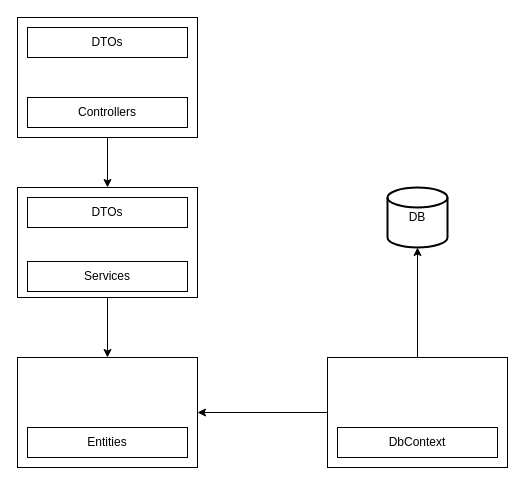
The diagram is 525 pixels wide and 485 high, and some of its shapes have lost their labels. Each missing label, with the box of its shape:
SleekFlow.Web.Application: (16, 186, 198, 298)
SleekFlow.Web.DAL: (326, 356, 508, 468)
SleekFlow.Web.Domain: (16, 356, 198, 468)
SleekFlow.Web.WebAPI: (16, 16, 198, 138)
